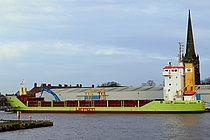Ship: (4, 59, 209, 117)
